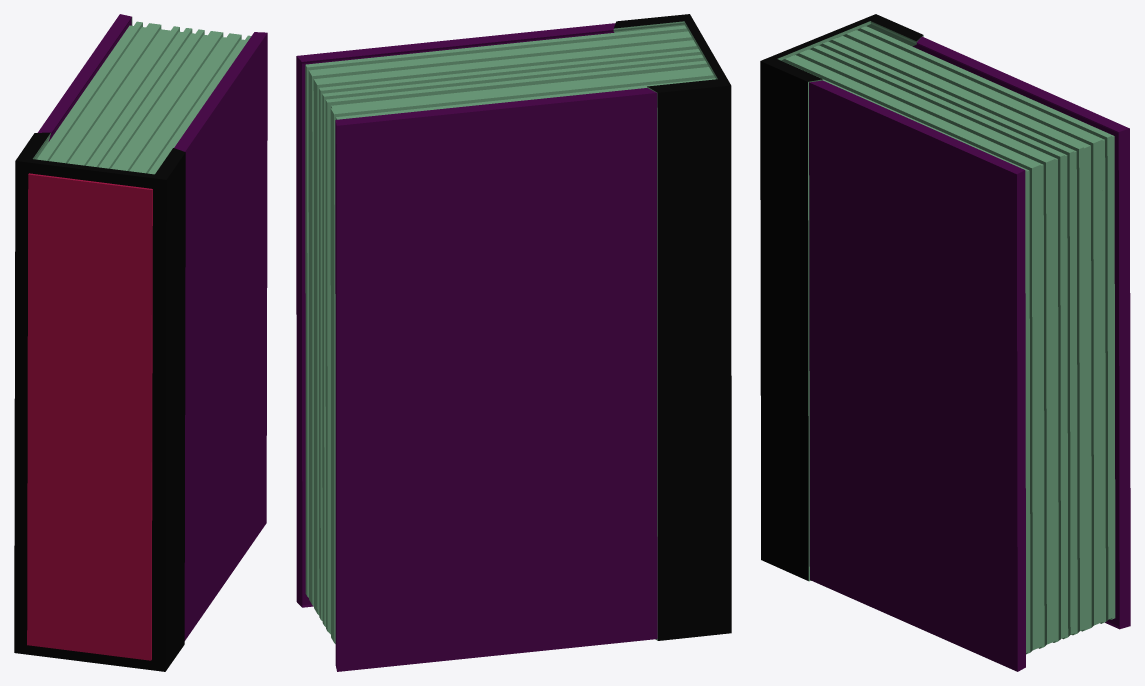
File: SecondShelfBook2.fbx
3 renders of one model, left to right at view 1: azimuth 30°, elevation 25°; view 2: azimuth 150°, elevation 25°; view 3: azimuth 270°, elevation 25°, orthographic. The views are drawn at different scales.
Parts seen in each view (by area): view 1: BigBook.004; view 2: BigBook.004; view 3: BigBook.004.
Part boxes in pixels (x1,y1,x2,y2): BigBook.004: (14,14,267,671); BigBook.004: (296,14,731,671); BigBook.004: (760,14,1130,671).
Size of the model in its own units: 130 by 189 by 127.
